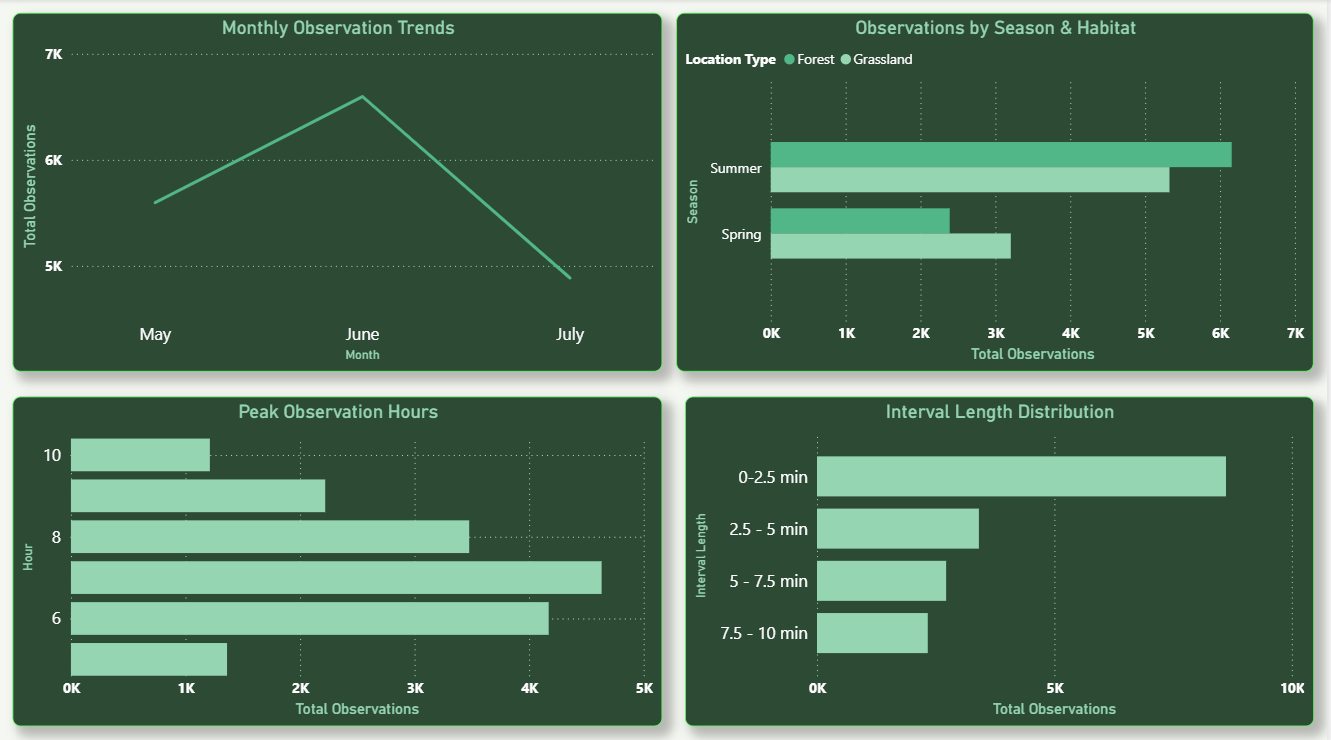

Layout of this report page (visuals, bound fields, positions):
{"tool":"powerbi","page":{"name":"Temporal Analysis","canvas":[1280,720],"ordinal":2},"visuals":[{"type":"lineChart","title":"Monthly Observation Trends","fields":{"Y":["bird_combined_clean.Total Observations"],"Category":["bird_combined_clean.Date.Variation.Date Hierarchy.Month"]},"box":[12.1,13.3,627.3,346.2],"z":0},{"type":"clusteredBarChart","title":"Observations by Season & Habitat ","fields":{"Category":["bird_combined_clean.Season"],"Y":["bird_combined_clean.Total Observations"],"Series":["bird_combined_clean.Location_Type"]},"box":[652.7,13.3,615.3,346.2],"z":1000},{"type":"barChart","title":"Peak Observation Hours","fields":{"Y":["bird_combined_clean.Total Observations"],"Category":["bird_combined_clean.Hour"]},"box":[12.1,383.6,627.3,318.5],"z":2000},{"type":"clusteredBarChart","title":" Interval Length Distribution","fields":{"Y":["bird_combined_clean.Total Observations"],"Category":["bird_combined_clean.Interval_Length"]},"box":[661.1,383.6,606.8,318.5],"z":3000}]}

Visuals, with their boxes in screenshot pixels (x1, y1, x2, y2), scaled from the page's 1280x720 canvas onto the 1331x740 screenshot:
"Monthly Observation Trends" lineChart: {"left": 13, "top": 14, "right": 665, "bottom": 369}
"Observations by Season & Habitat " clusteredBarChart: {"left": 679, "top": 14, "right": 1319, "bottom": 369}
"Peak Observation Hours" barChart: {"left": 13, "top": 394, "right": 665, "bottom": 722}
" Interval Length Distribution" clusteredBarChart: {"left": 687, "top": 394, "right": 1318, "bottom": 722}
